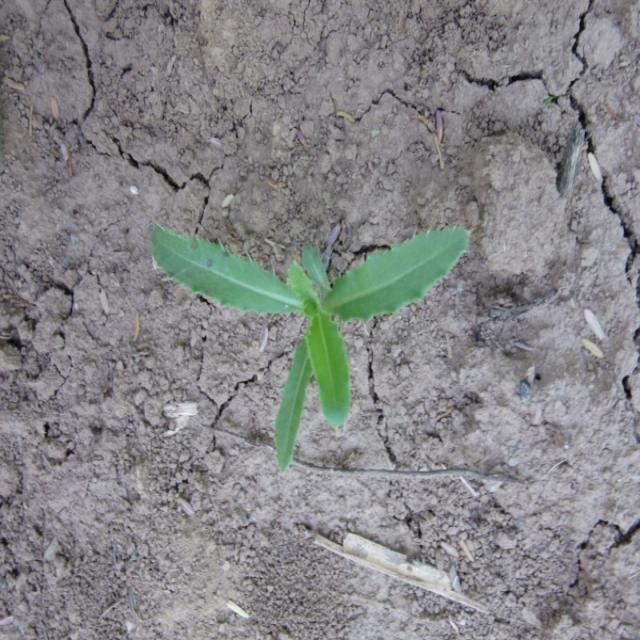field_thistle: (143, 178, 465, 483)
